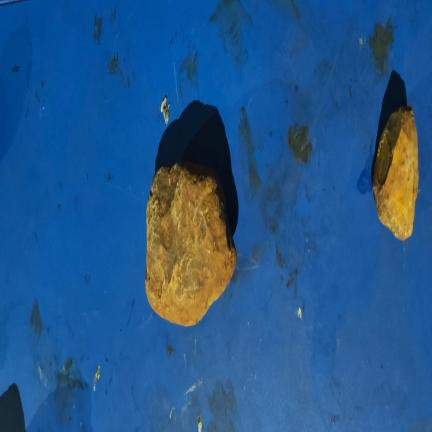Rocks: (146, 162, 236, 325), (373, 107, 418, 240)
